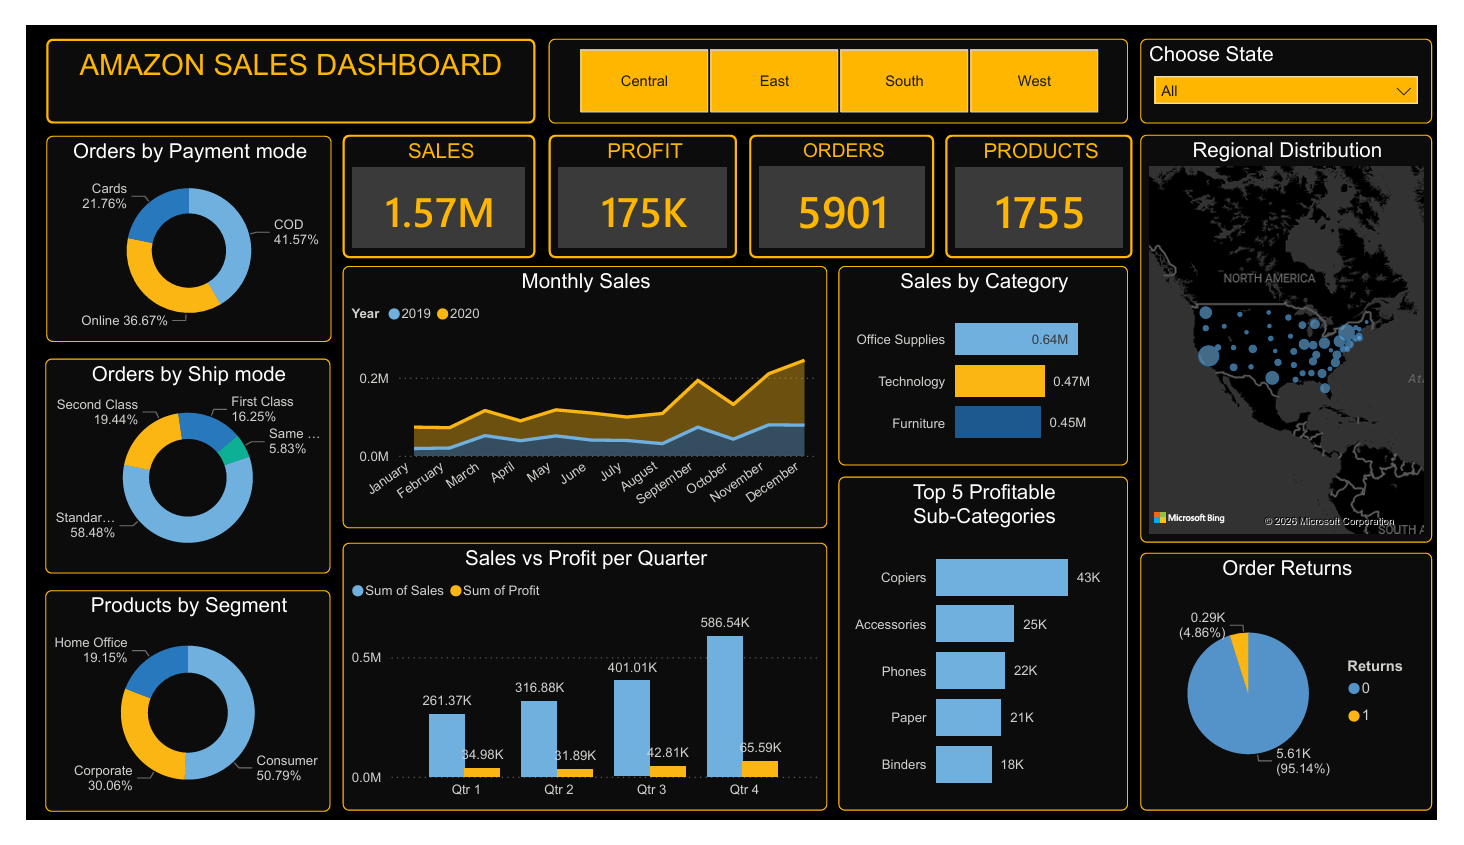

This screenshot's page, from the dashboard's own definition file:
{"tool":"powerbi","page":{"name":"Page 1","canvas":[1280,720],"ordinal":0},"visuals":[{"type":"clusteredBarChart","title":"Sales by Category","fields":{"Category":["Sheet1.Category"],"Y":["Sum(Sheet1.Sales)"]},"box":[737,218,263,181],"z":0},{"type":"clusteredBarChart","title":"Top 5 Profitable Sub-Categories","fields":{"Category":["Sheet1.Sub-Category"],"Y":["Sum(Sheet1.Profit)"]},"box":[737,409,263,303],"z":1000},{"type":"donutChart","title":"Orders by Payment mode","fields":{"Category":["Sheet1.Payment Mode"],"Y":["CountNonNull(Sheet1.Order ID)"]},"box":[18.1,100.1,259.4,187],"z":2000},{"type":"donutChart","title":"Orders by Ship mode","fields":{"Y":["CountNonNull(Sheet1.Order ID)"],"Category":["Sheet1.Ship Mode"]},"box":[16.9,301.6,259.4,195.4],"z":3000},{"type":"donutChart","title":"Products by Segment","fields":{"Category":["Sheet1.Segment"],"Y":["CountNonNull(Sheet1.Product Name)"]},"box":[16.9,511.5,259.4,201.5],"z":4000},{"type":"map","title":"Regional Distribution","fields":{"Category":["Sheet1.State"],"Size":["Sum(Sheet1.Sales)"]},"box":[1011,99,265,370],"z":5000},{"type":"pieChart","title":"Order Returns","fields":{"Category":["Sheet1.Returns"],"Y":["CountNonNull(Sheet1.Order ID)"]},"box":[1011,478,265,234],"z":6000},{"type":"stackedAreaChart","title":"Monthly Sales","fields":{"Category":["Sheet1.Order Date.Variation.Date Hierarchy.Month"],"Y":["Sum(Sheet1.Sales)"],"Series":["Sheet1.Order Date.Variation.Date Hierarchy.Year"]},"box":[287,218,440,238],"z":7000},{"type":"clusteredColumnChart","title":"Sales vs Profit per Quarter","fields":{"Category":["Sheet1.Order Date.Variation.Date Hierarchy.Quarter"],"Y":["Sum(Sheet1.Sales)","Sum(Sheet1.Profit)"]},"box":[287,469,440,243],"z":8000},{"type":"slicer","fields":{"Values":["Sheet1.Region"]},"box":[474.1,12.1,526,77.2],"z":9000},{"type":"slicer","title":"Choose State","fields":{"Values":["Sheet1.State"]},"box":[1011,11.9,265.4,77.2],"z":10000},{"type":"cardVisual","title":"SALES","fields":{"Data":["Sum(Sheet1.Sales)"]},"box":[287.1,99.1,174.9,112.2],"z":11000},{"type":"cardVisual","title":"PROFIT","fields":{"Data":["Sum(Sheet1.Profit)"]},"box":[474.1,99.1,171.3,112.2],"z":12000},{"type":"cardVisual","title":"ORDERS","fields":{"Data":["CountNonNull(Sheet1.Order ID)"]},"box":[656.3,99.1,167.7,112.2],"z":13000},{"type":"cardVisual","title":"PRODUCTS","fields":{"Data":["Count(Sheet1.Product ID)"]},"box":[833.7,99.1,170.1,112.2],"z":14000},{"type":"textbox","box":[18.1,12.1,444,77.2],"z":15000}]}

Visuals, with their boxes in screenshot pixels (x1, y1, x2, y2), scaled from the page's 1280x720 canvas onto the 1464x845 screenshot:
"Sales by Category" clusteredBarChart: [x1=843, y1=256, x2=1144, y2=468]
"Top 5 Profitable Sub-Categories" clusteredBarChart: [x1=843, y1=480, x2=1144, y2=836]
"Orders by Payment mode" donutChart: [x1=21, y1=117, x2=317, y2=337]
"Orders by Ship mode" donutChart: [x1=19, y1=354, x2=316, y2=583]
"Products by Segment" donutChart: [x1=19, y1=600, x2=316, y2=837]
"Regional Distribution" map: [x1=1156, y1=116, x2=1459, y2=550]
"Order Returns" pieChart: [x1=1156, y1=561, x2=1459, y2=836]
"Monthly Sales" stackedAreaChart: [x1=328, y1=256, x2=832, y2=535]
"Sales vs Profit per Quarter" clusteredColumnChart: [x1=328, y1=550, x2=832, y2=836]
slicer - Sheet1.Region: [x1=542, y1=14, x2=1144, y2=105]
"Choose State" slicer: [x1=1156, y1=14, x2=1460, y2=105]
"SALES" cardVisual: [x1=328, y1=116, x2=528, y2=248]
"PROFIT" cardVisual: [x1=542, y1=116, x2=738, y2=248]
"ORDERS" cardVisual: [x1=751, y1=116, x2=942, y2=248]
"PRODUCTS" cardVisual: [x1=954, y1=116, x2=1148, y2=248]
textbox: [x1=21, y1=14, x2=529, y2=105]
